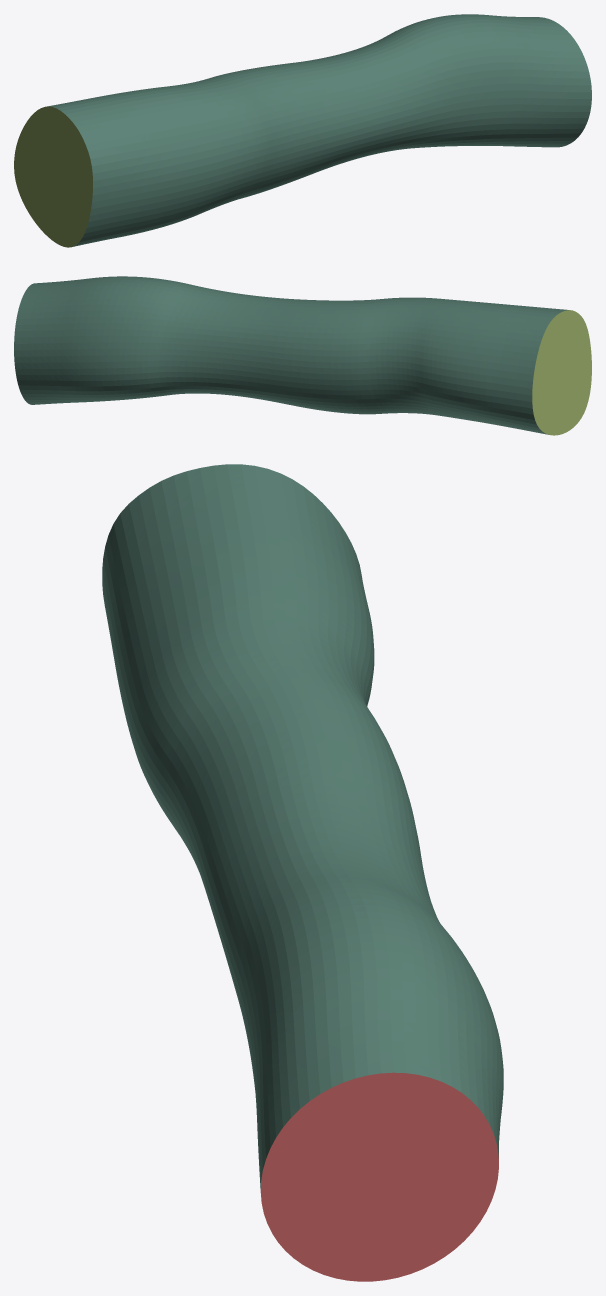
File: stenosis_post.vtp.fbx
The picture shows the model from 3 angles, top to bottom: view 1: azimuth 30°, elevation 25°; view 2: azimuth 150°, elevation 25°; view 3: azimuth 270°, elevation 25°; orthographic projection. The views are drawn at different scales.
Visible parts, largest first — view 1: imagetostl_mesh0; view 2: imagetostl_mesh0; view 3: imagetostl_mesh0.
Part boxes in pixels (x1,y1,x2,y2): imagetostl_mesh0: [14, 14, 591, 247]; imagetostl_mesh0: [14, 276, 591, 435]; imagetostl_mesh0: [102, 464, 503, 1281].
Size of the model in its own units: 7462 by 2445 by 2549.
